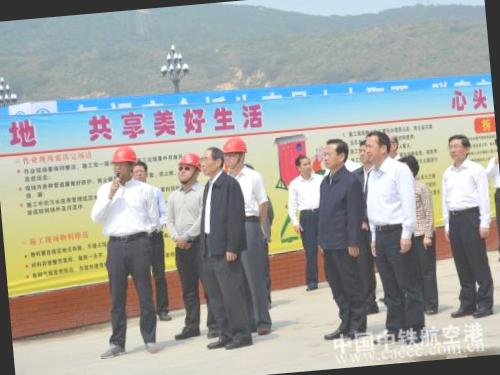no_helmet: (321, 136, 352, 172), (198, 143, 229, 179), (444, 130, 475, 164), (362, 129, 392, 164), (294, 150, 316, 180), (131, 156, 150, 184)
